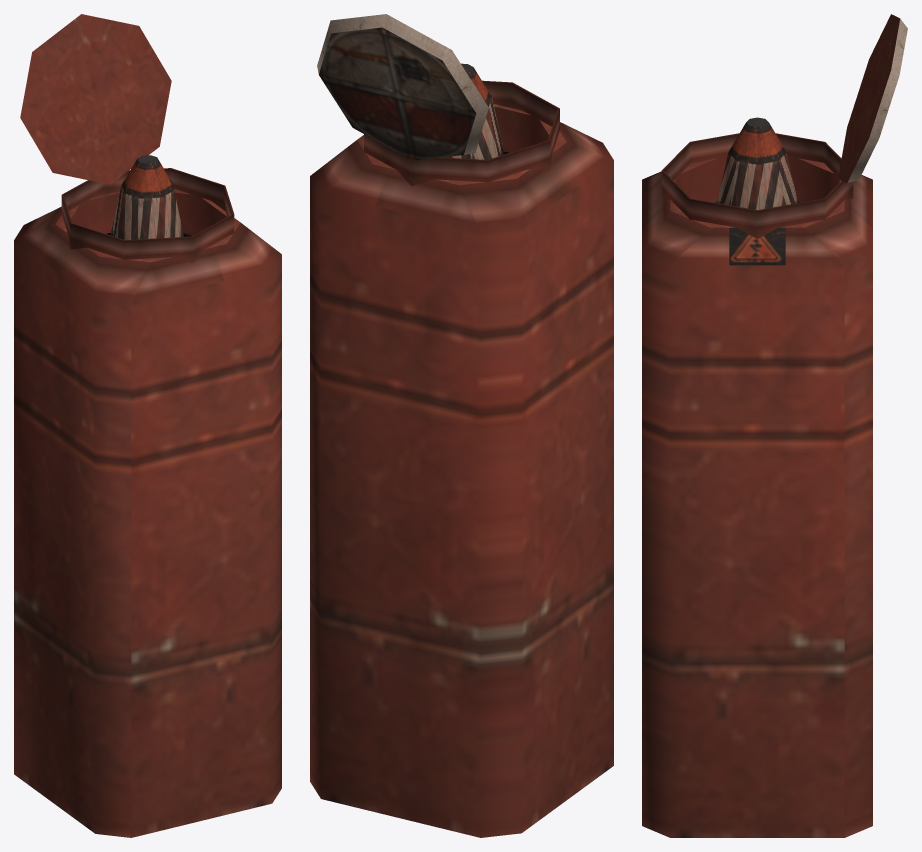
Rendered from silos_01.dae.
The picture shows the model from 3 angles, left to right: view 1: azimuth 30°, elevation 25°; view 2: azimuth 150°, elevation 25°; view 3: azimuth 270°, elevation 25°; orthographic projection. The views are drawn at different scales.
Parts seen in each view (by area): view 1: silos; view 2: silos; view 3: silos.
Boxes of the visible parts, x1,y1,x2,y2 form: silos: (14,14,281,837); silos: (310,14,613,837); silos: (642,14,907,837).
Bounding box in the file's own units: 12.4 × 14.27 × 45.64.
